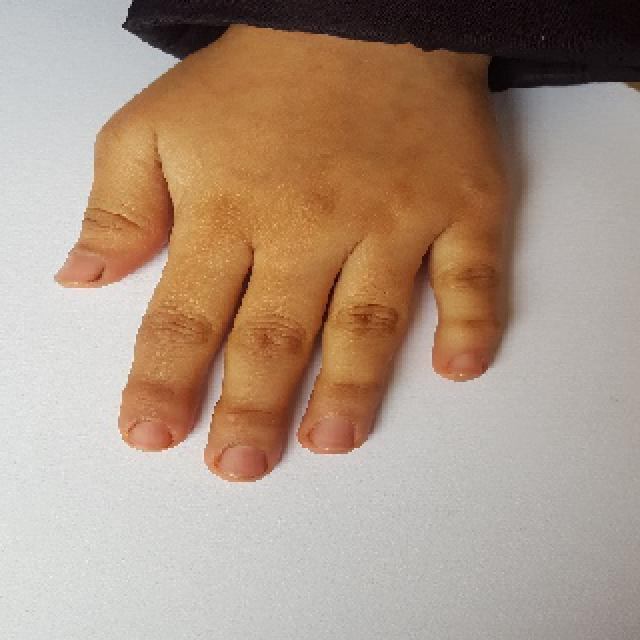Nail: (55, 249, 105, 286), (218, 445, 269, 481), (310, 419, 354, 452), (126, 420, 172, 450), (448, 352, 484, 381)
